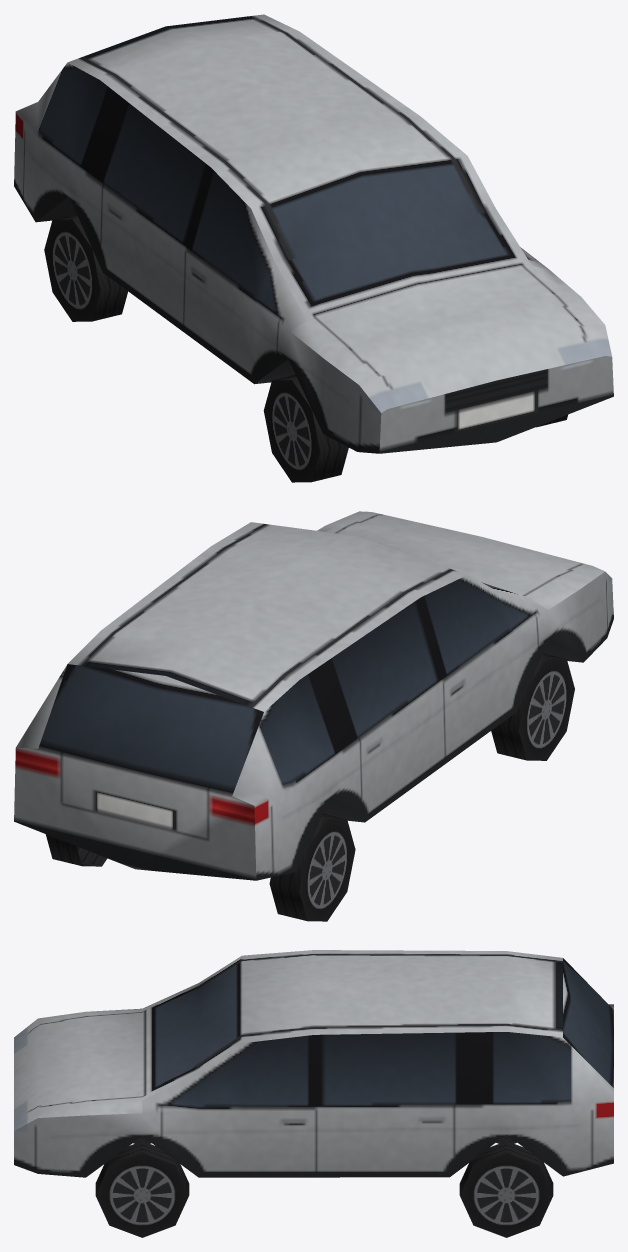
File: SM_Morin_Auto_B_v2_Argento_LOD2.fbx
3 views of the same model, one above another, from view 1: azimuth 30°, elevation 25°; view 2: azimuth 150°, elevation 25°; view 3: azimuth 270°, elevation 25° (orthographic). The views are drawn at different scales.
Visible parts, largest first — view 1: SM_Morin_Auto_B_v2_Argento_LOD2; view 2: SM_Morin_Auto_B_v2_Argento_LOD2; view 3: SM_Morin_Auto_B_v2_Argento_LOD2.
Part boxes in pixels (<box>): SM_Morin_Auto_B_v2_Argento_LOD2: <box>14,14,613,482</box>; SM_Morin_Auto_B_v2_Argento_LOD2: <box>14,511,613,921</box>; SM_Morin_Auto_B_v2_Argento_LOD2: <box>14,950,613,1237</box>.
Bounding box in the file's own units: 182 × 435 × 164.
Materials: 1 (1 with a texture image).
